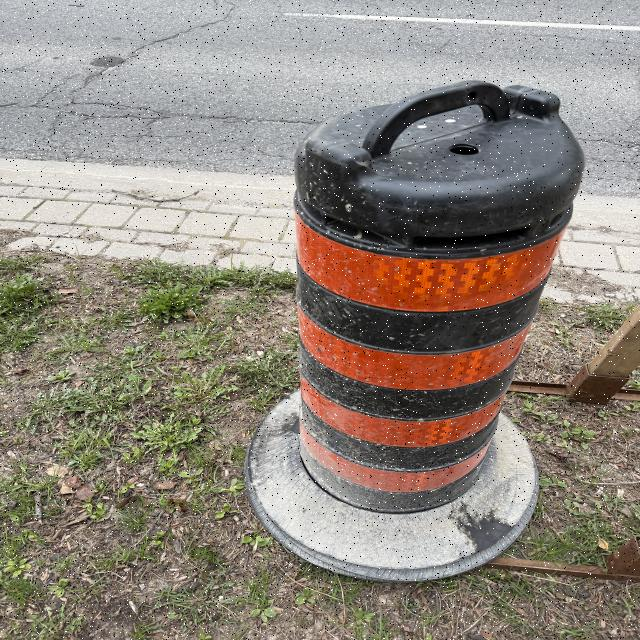Teraffic Barrel: (247, 82, 583, 579)
